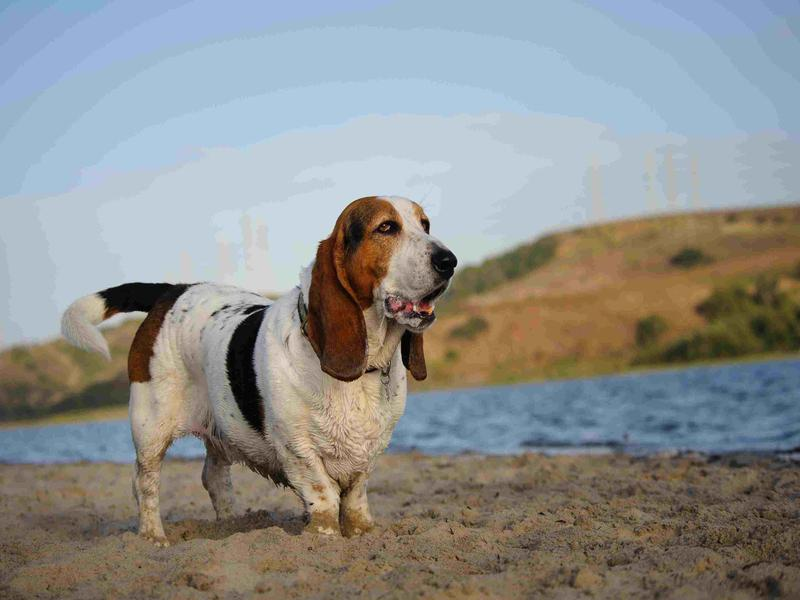dog_stand: (55, 191, 461, 554)
